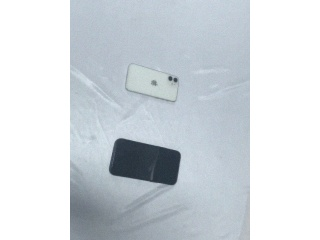phone: (108, 138, 181, 185), (125, 62, 179, 101)
